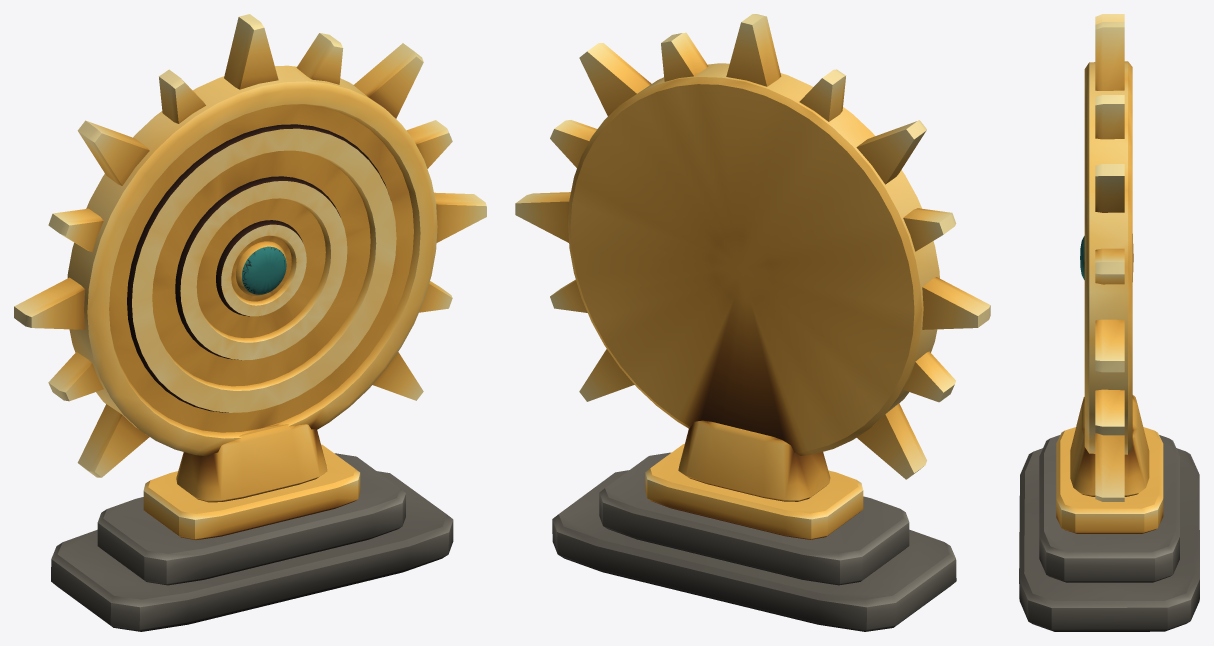
Rendered from gilded_sun_disc.fbx.
3 renders of one model, left to right at view 1: azimuth 30°, elevation 25°; view 2: azimuth 150°, elevation 25°; view 3: azimuth 270°, elevation 25°, orthographic. The views are drawn at different scales.
Visible parts, largest first — view 1: gilded_sun_disc_Body; view 2: gilded_sun_disc_Body; view 3: gilded_sun_disc_Body.
Part boxes in pixels (bbox=[...]): gilded_sun_disc_Body: bbox=[14, 14, 486, 631]; gilded_sun_disc_Body: bbox=[515, 14, 990, 631]; gilded_sun_disc_Body: bbox=[1019, 14, 1199, 631].
Size of the model in its own units: 0.452 by 0.512 by 0.1588.
Materials: 1 (1 with a texture image).
